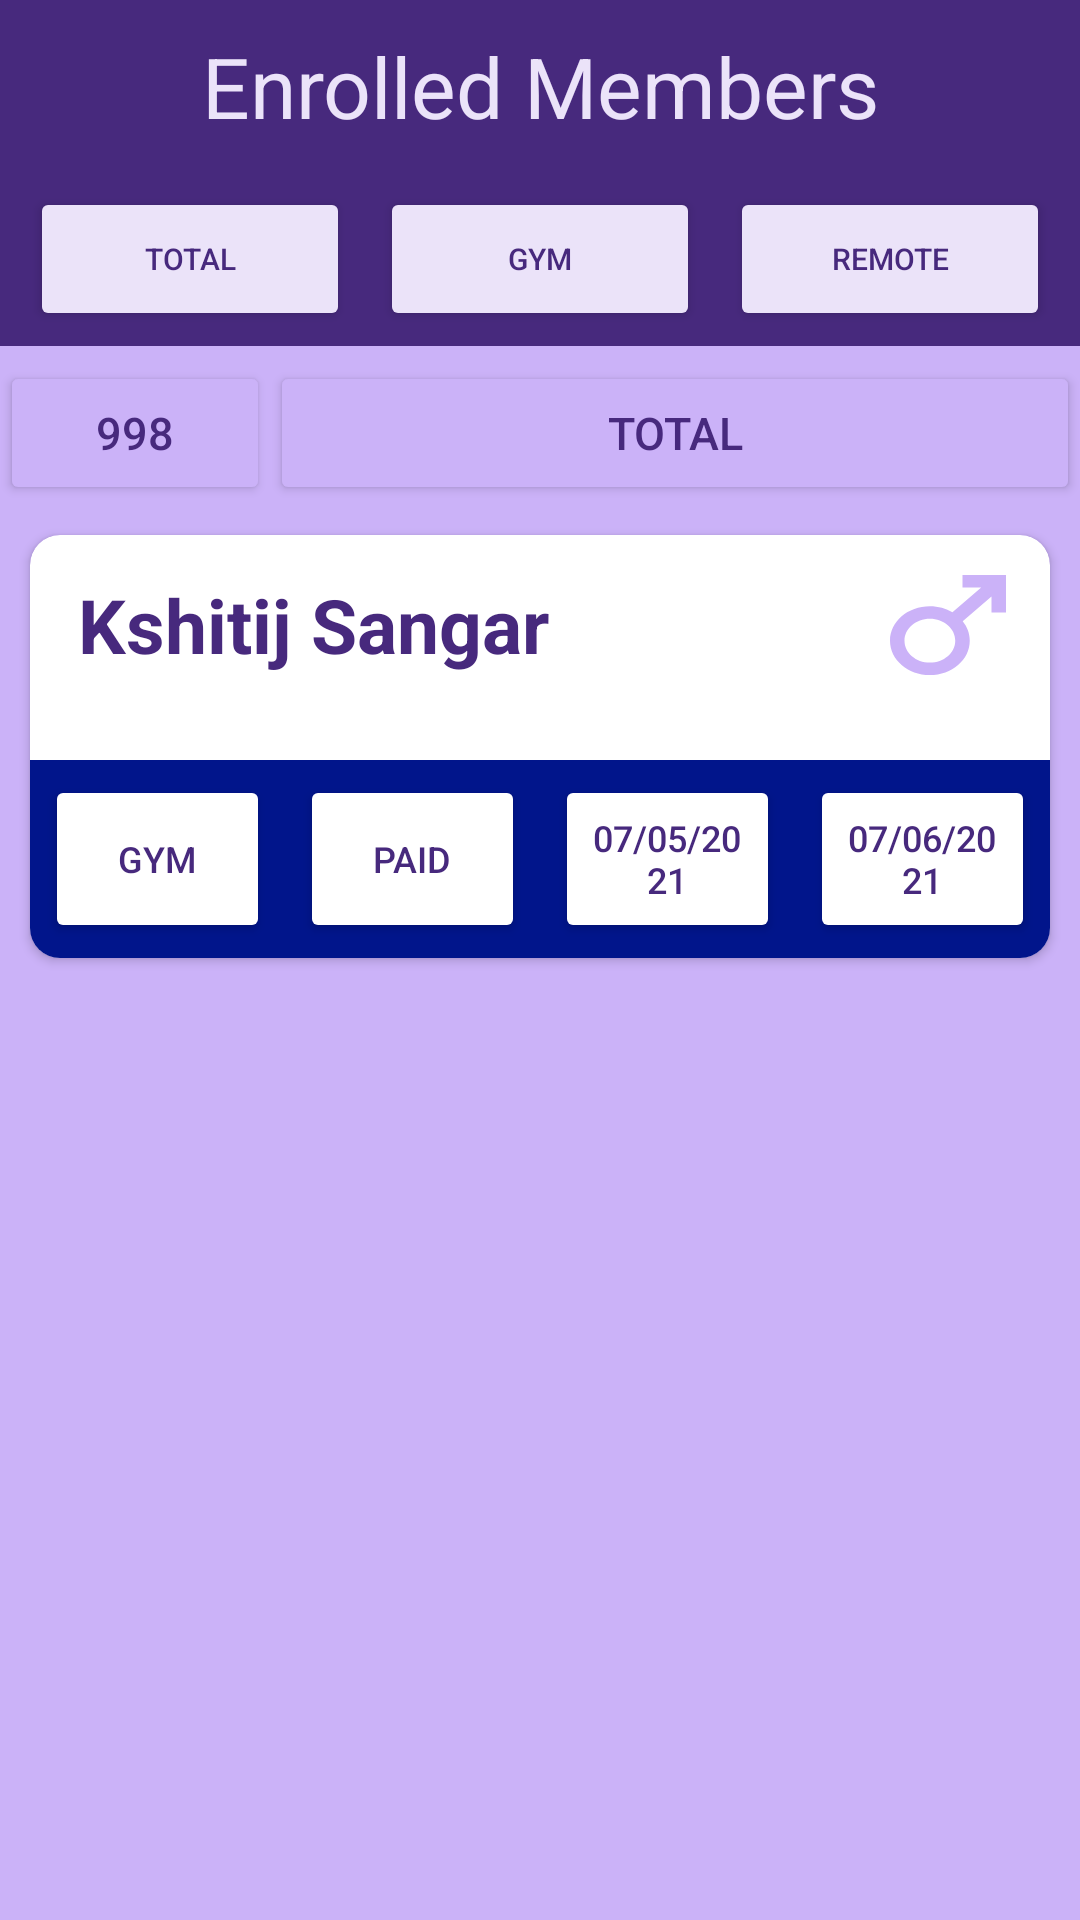

Icon click points for this 1080px x 1920px phone screenshot, format [x,y]:
male: [948,625]
